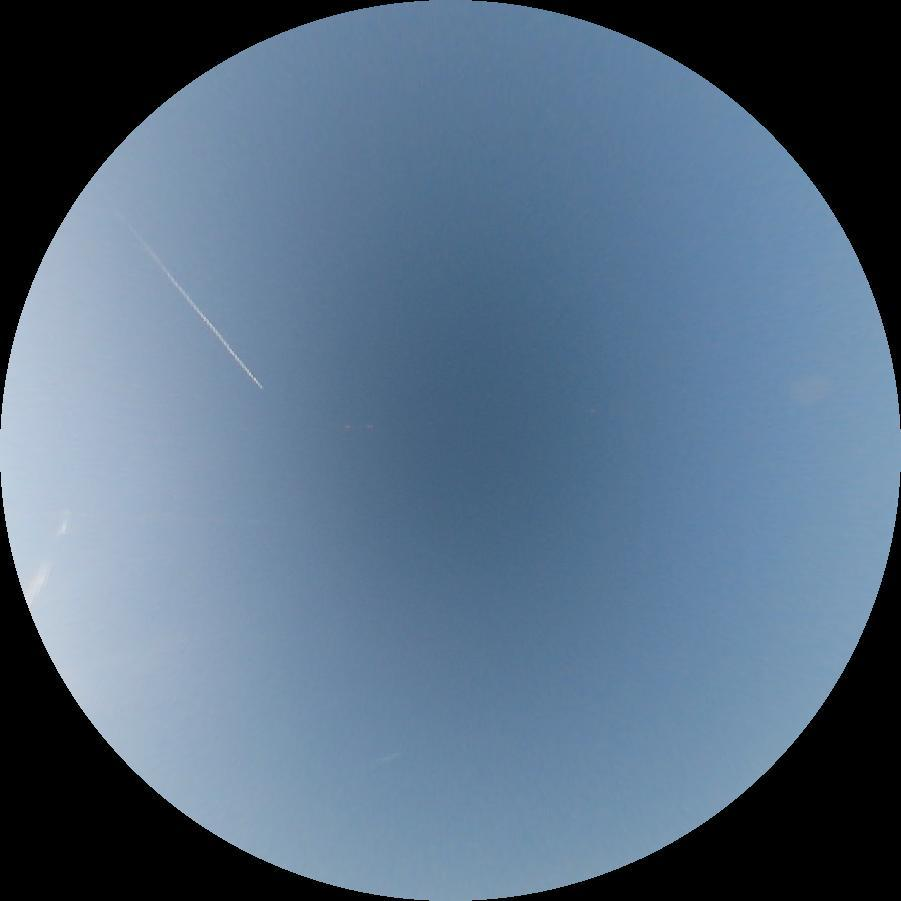contrail young: (115, 210, 265, 393)
unknow: (22, 508, 76, 608)
